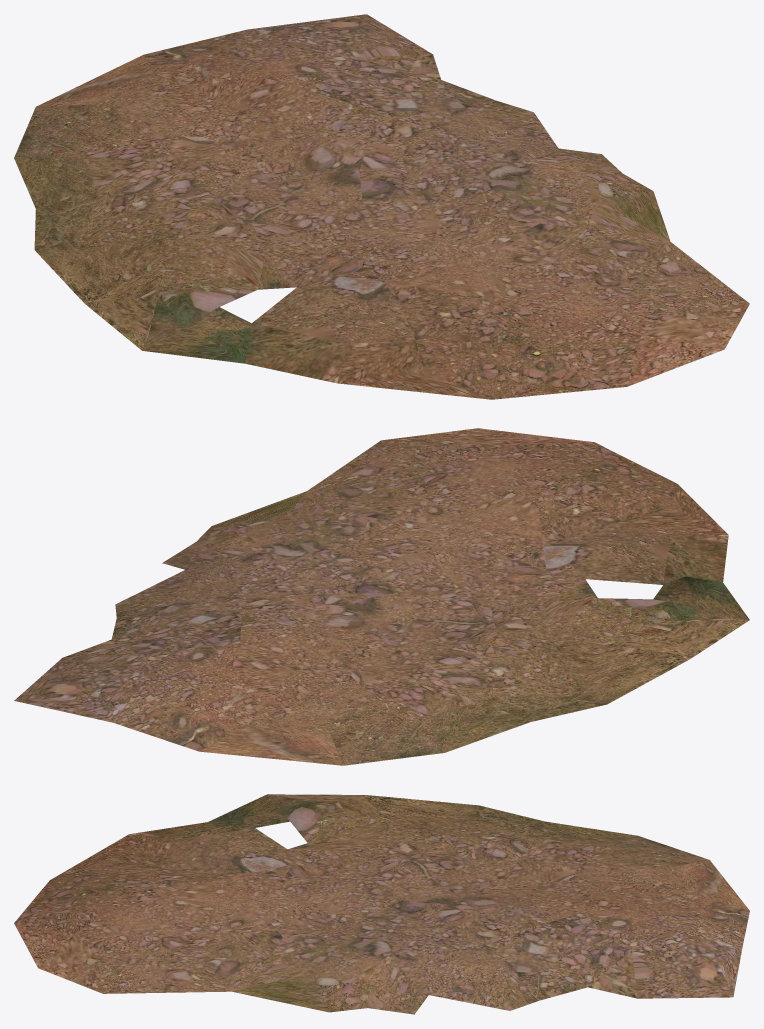
File: SM_Gravel.fbx
3 views of the same model, one above another, from view 1: azimuth 30°, elevation 25°; view 2: azimuth 150°, elevation 25°; view 3: azimuth 270°, elevation 25° (orthographic). The views are drawn at different scales.
Visible parts, largest first — view 1: Gravel.001; view 2: Gravel.001; view 3: Gravel.001.
Part boxes in pixels (<box>): Gravel.001: <box>14,14,749,399</box>; Gravel.001: <box>14,428,749,765</box>; Gravel.001: <box>14,794,749,1014</box>.
Bounding box in the file's own units: 2.73 × 0.1596 × 3.92.
